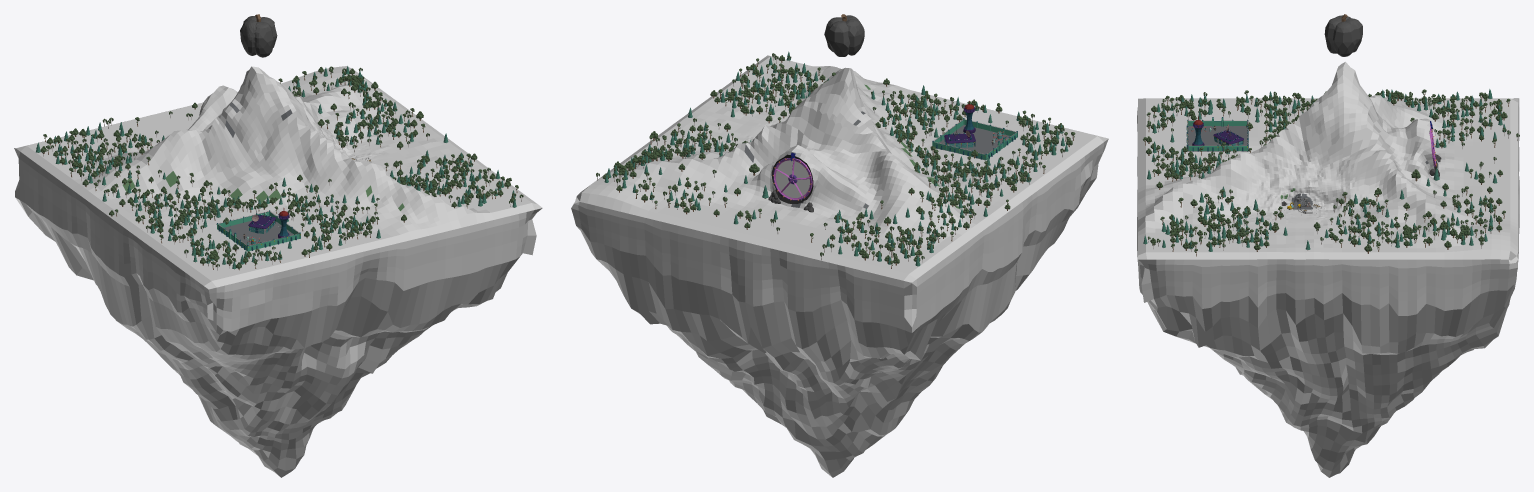
File: cataclysm's_wheel_norm.fbx
3 views of the same model, side by side, from view 1: azimuth 30°, elevation 25°; view 2: azimuth 150°, elevation 25°; view 3: azimuth 270°, elevation 25° (orthographic). The views are drawn at different scales.
Visible parts, largest first — view 1: terrain, pepper, Circle.003; view 2: terrain, pepper, Circle.003, Circle.017; view 3: terrain, pepper, Circle.003.
Part boxes in pixels (x1,y1,x2,y2): terrain: (14, 66, 542, 477); pepper: (240, 14, 277, 57); Circle.003: (216, 210, 300, 251); terrain: (571, 55, 1108, 477); pepper: (824, 14, 864, 56); Circle.003: (932, 118, 1017, 160); Circle.017: (772, 158, 812, 200); terrain: (1137, 62, 1519, 477); pepper: (1324, 14, 1362, 56); Circle.003: (1186, 117, 1248, 151).
Size of the model in its own units: 2616 by 3425 by 2615.
